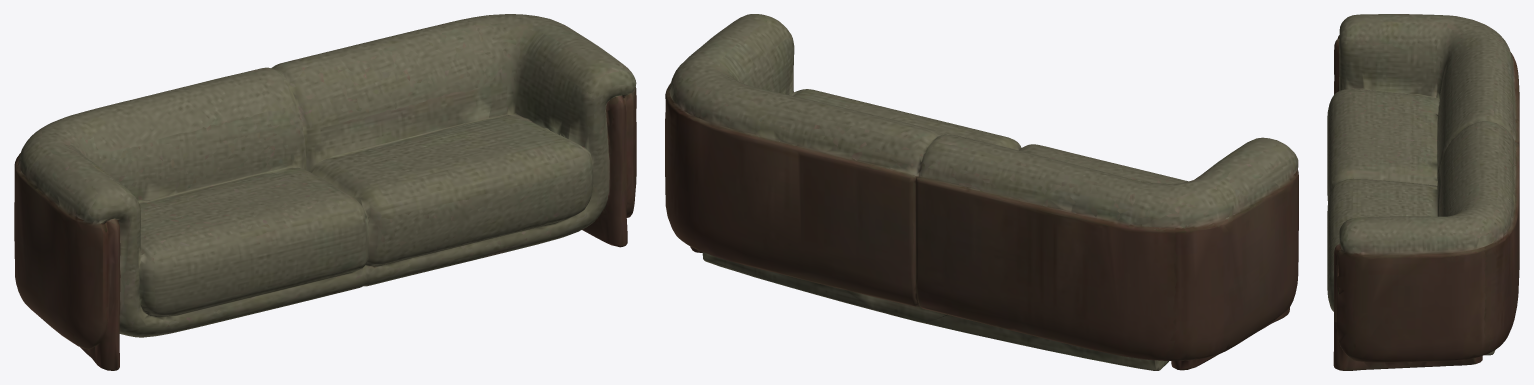
File: 8OL4sUgb9YnwHS8HwjD02.glb
The picture shows the model from 3 angles, left to right: view 1: azimuth 30°, elevation 25°; view 2: azimuth 150°, elevation 25°; view 3: azimuth 270°, elevation 25°; orthographic projection. The views are drawn at different scales.
Visible parts, largest first — view 1: geometry_0; view 2: geometry_0; view 3: geometry_0.
Boxes of the visible parts, x1,y1,x2,y2 form: geometry_0: [14, 14, 636, 370]; geometry_0: [665, 14, 1298, 370]; geometry_0: [1327, 14, 1519, 370].
Bounding box in the file's own units: 1 × 0.2985 × 0.3558.
Materials: 1 (1 with a texture image).
